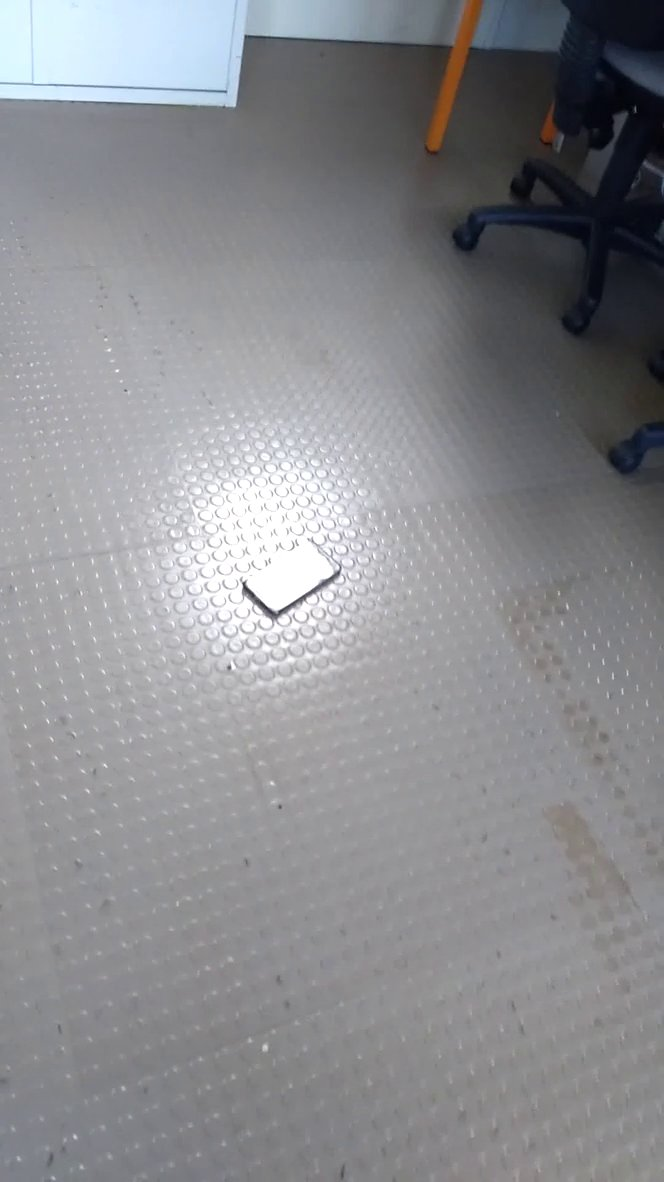phone: (231, 533, 349, 630)
